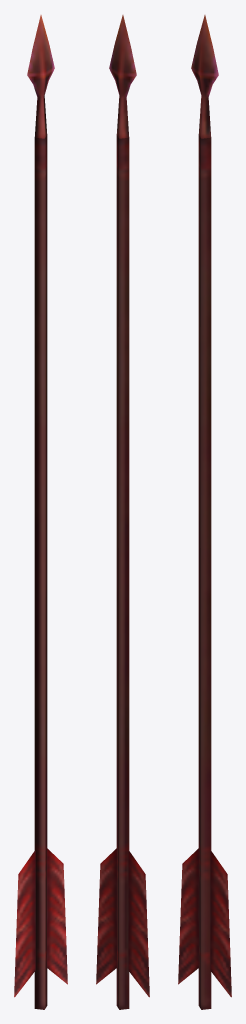
Rendered from Arrow03.FBX.
The picture shows the model from 3 angles, left to right: view 1: azimuth 30°, elevation 25°; view 2: azimuth 150°, elevation 25°; view 3: azimuth 330°, elevation 25°; orthographic projection.
Parts seen in each view (by area): view 1: Arrow03; view 2: Arrow03; view 3: Arrow03.
Boxes of the visible parts, x1=… form: Arrow03: x1=14, y1=15, x2=67, y2=1009; Arrow03: x1=96, y1=15, x2=149, y2=1009; Arrow03: x1=178, y1=15, x2=231, y2=1009.
Size of the model in its own units: 4.27 by 76.25 by 1.18.
